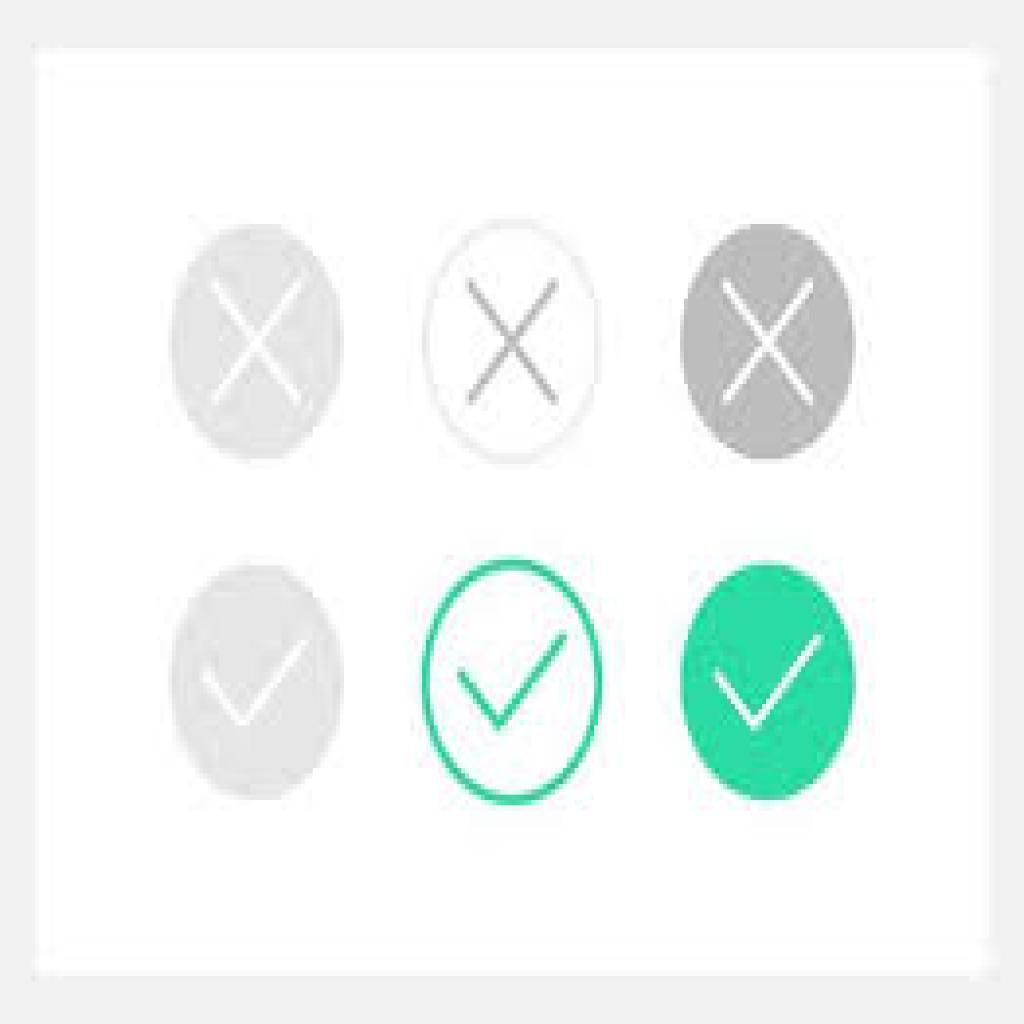checkbox: (412, 216, 615, 478), (666, 557, 865, 808), (679, 216, 868, 477), (413, 549, 601, 808), (172, 215, 349, 467), (167, 557, 346, 803)
